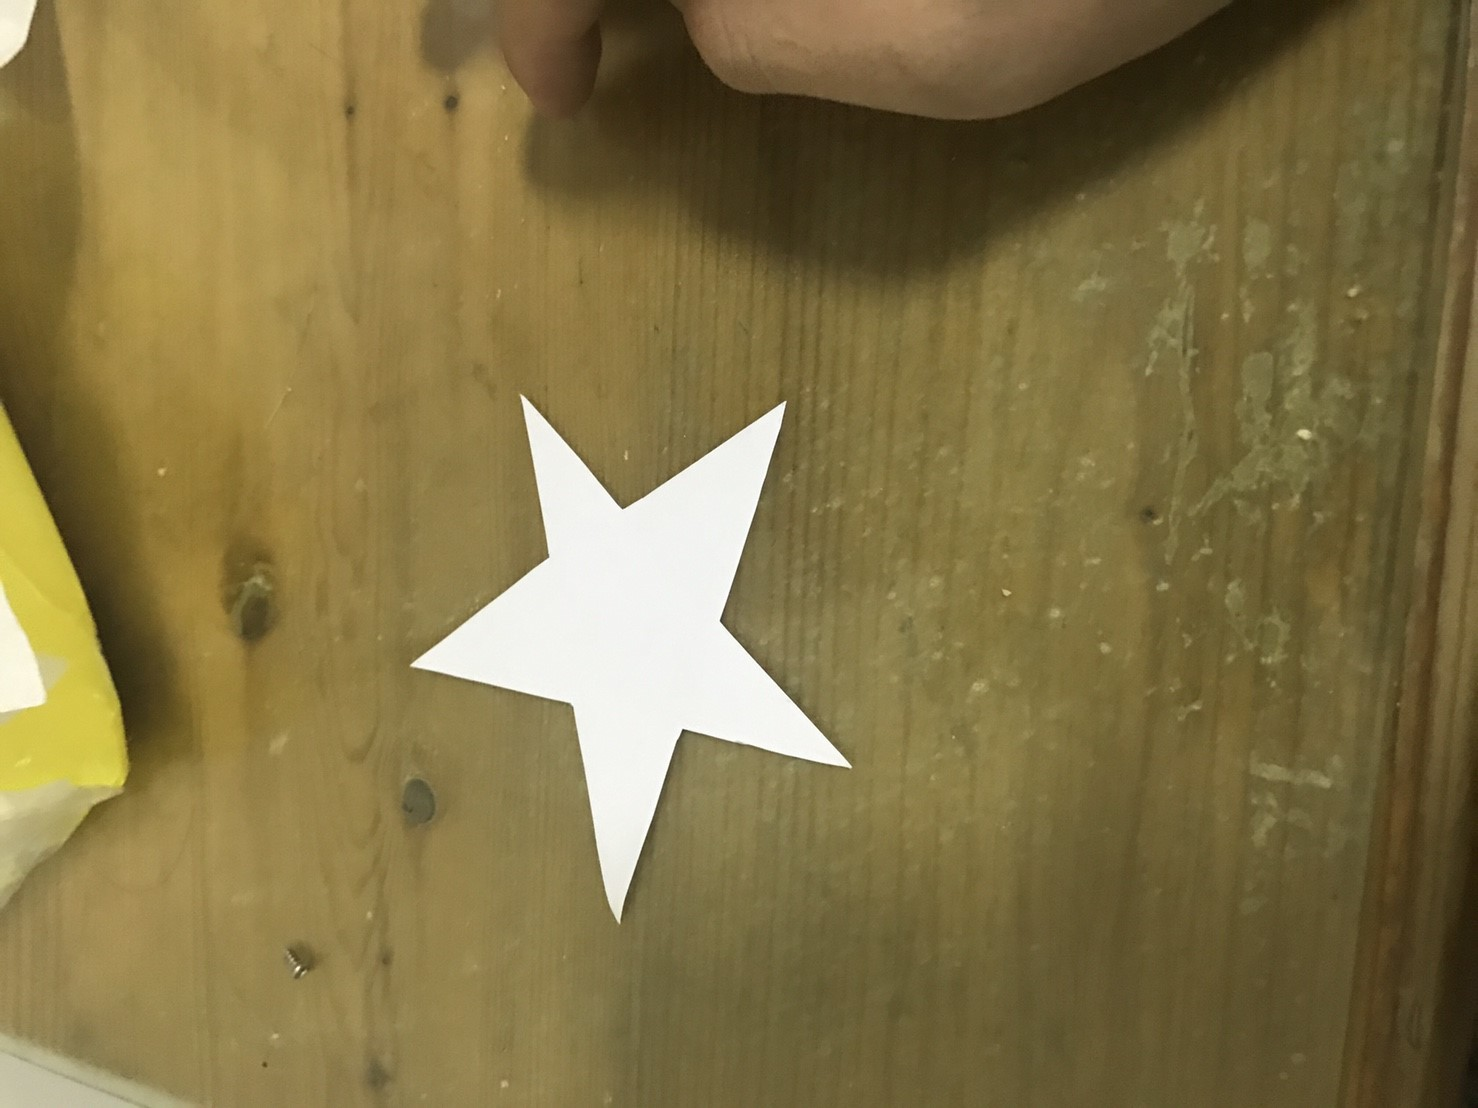star: (392, 384, 883, 932)
